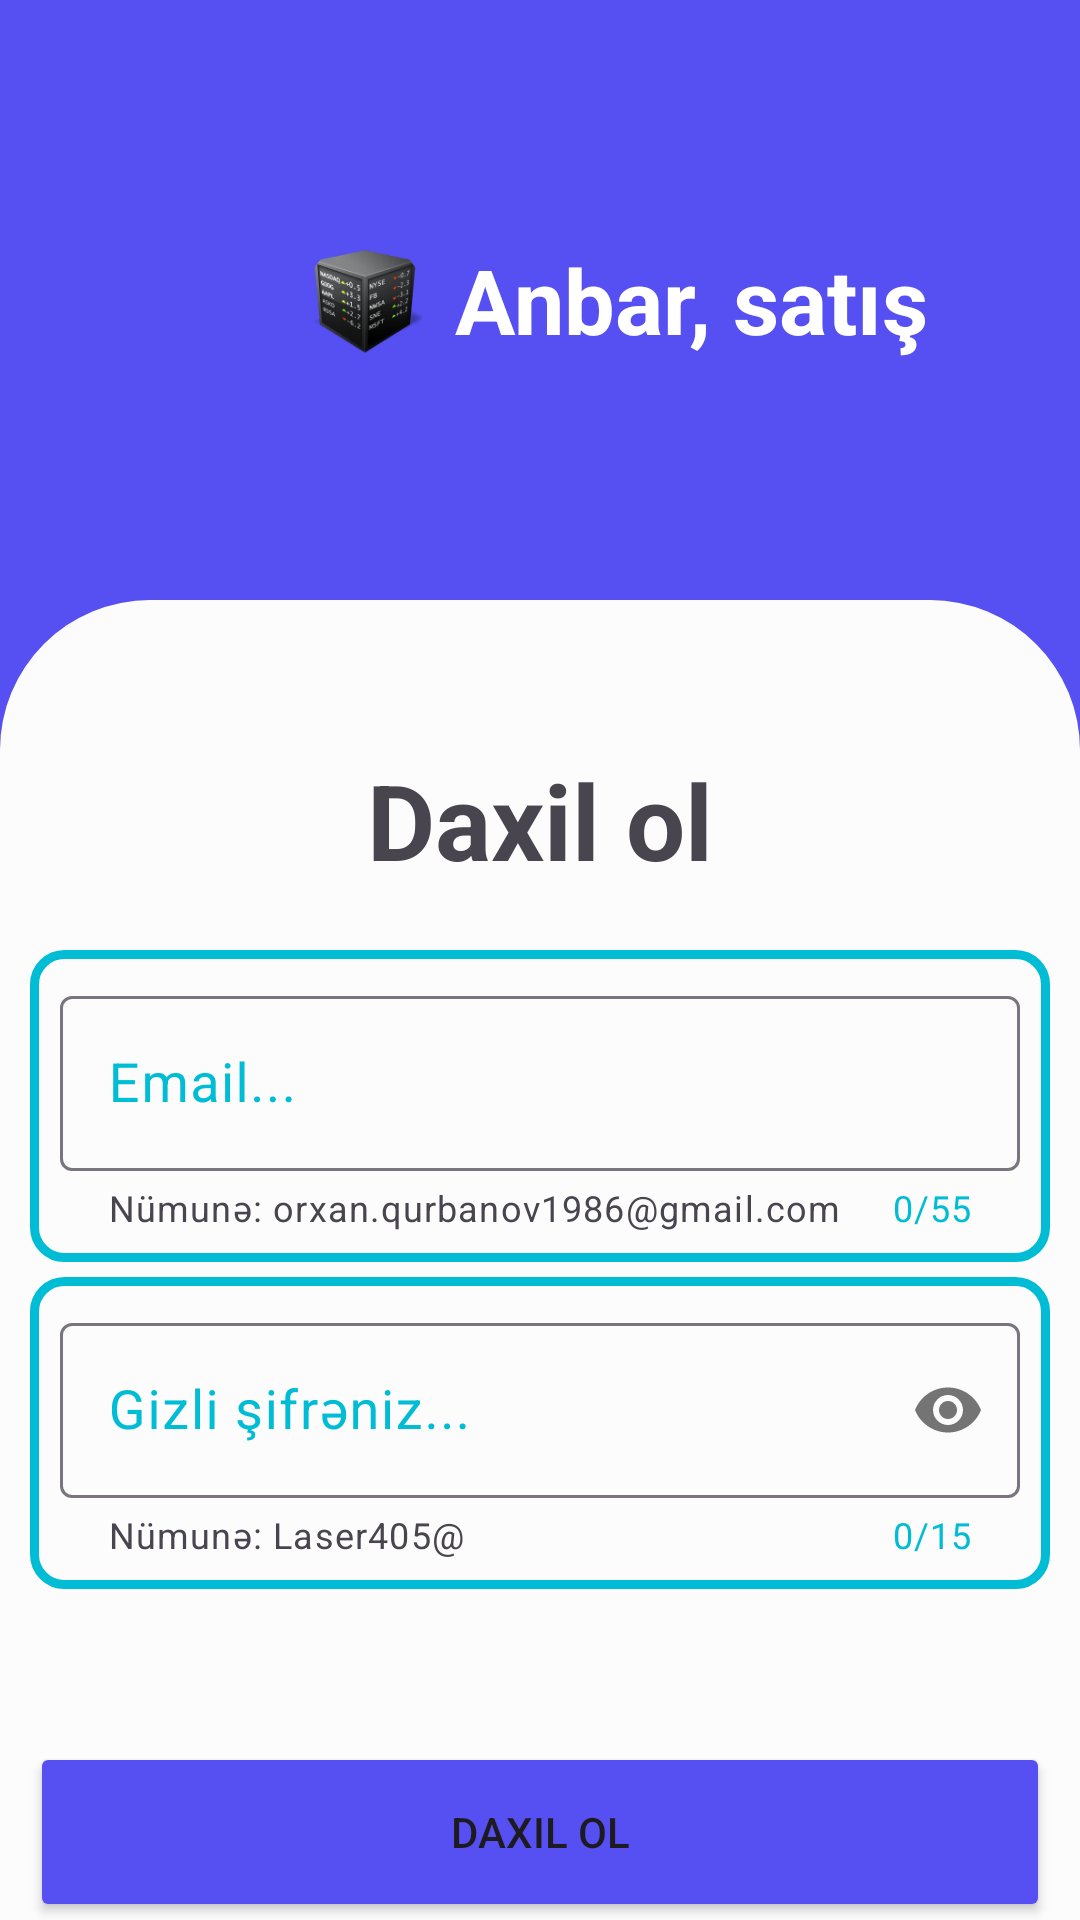

Icon bounding boxes for this 1080*1920 phone screenshot, format (x1, y1, x2, y2):
stock: (314, 250, 421, 353)
